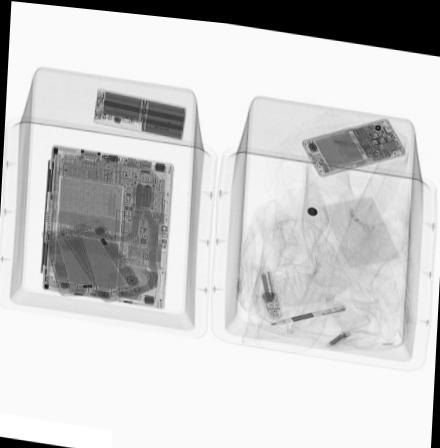Powerbank: (93, 83, 186, 138)
